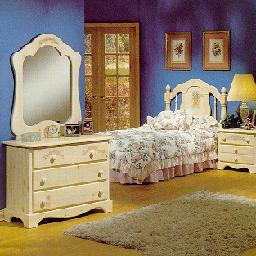Armario: (30, 142, 112, 218)
Cama: (113, 111, 215, 183)
